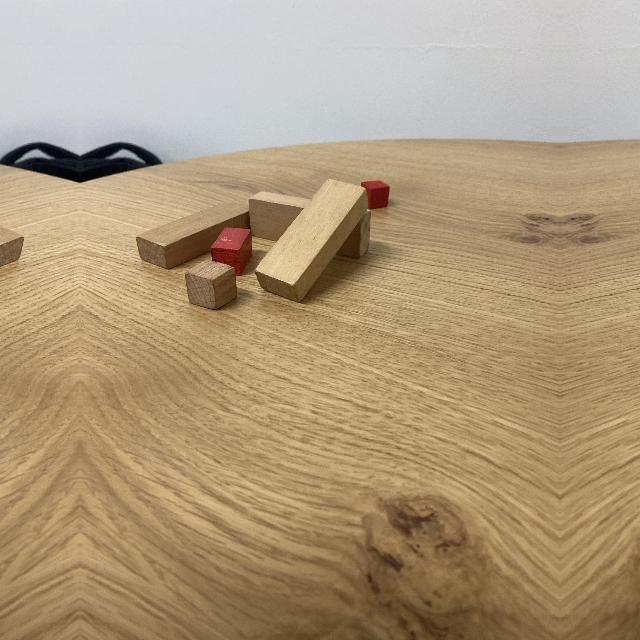cube: (185, 260, 237, 311), (338, 210, 371, 259)
jenga: (255, 180, 368, 303), (136, 203, 250, 270), (249, 192, 310, 242)
red block: (210, 227, 253, 276)
red cube: (361, 180, 390, 210)
